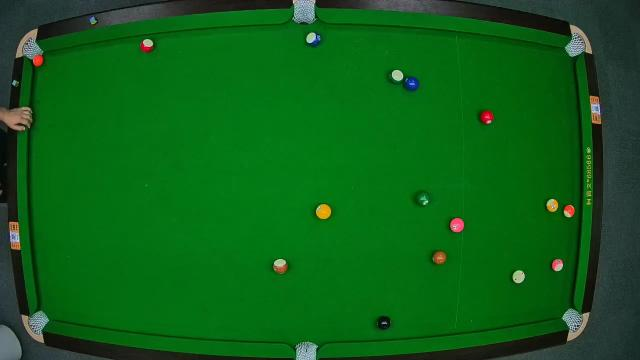bag1: (20, 40, 40, 61)
bag2: (292, 1, 316, 25)
bag3: (566, 35, 588, 55)
bag4: (28, 311, 48, 333)
bag5: (293, 340, 319, 360)
bag6: (562, 308, 582, 332)
ball0: (512, 268, 524, 284)
ball1: (316, 204, 332, 220)
ball10: (306, 30, 322, 48)
ball11: (140, 38, 154, 52)
ball12: (550, 258, 564, 272)
ball13: (562, 204, 574, 218)
ball14: (388, 69, 404, 85)
ball15: (274, 258, 288, 274)
ball2: (404, 76, 420, 90)
ball3: (480, 109, 494, 123)
ball4: (448, 216, 464, 232)
ball5: (32, 56, 44, 66)
ball6: (414, 191, 430, 207)
ball7: (432, 251, 446, 265)
ball8: (376, 316, 392, 330)
ball9: (546, 198, 560, 214)
